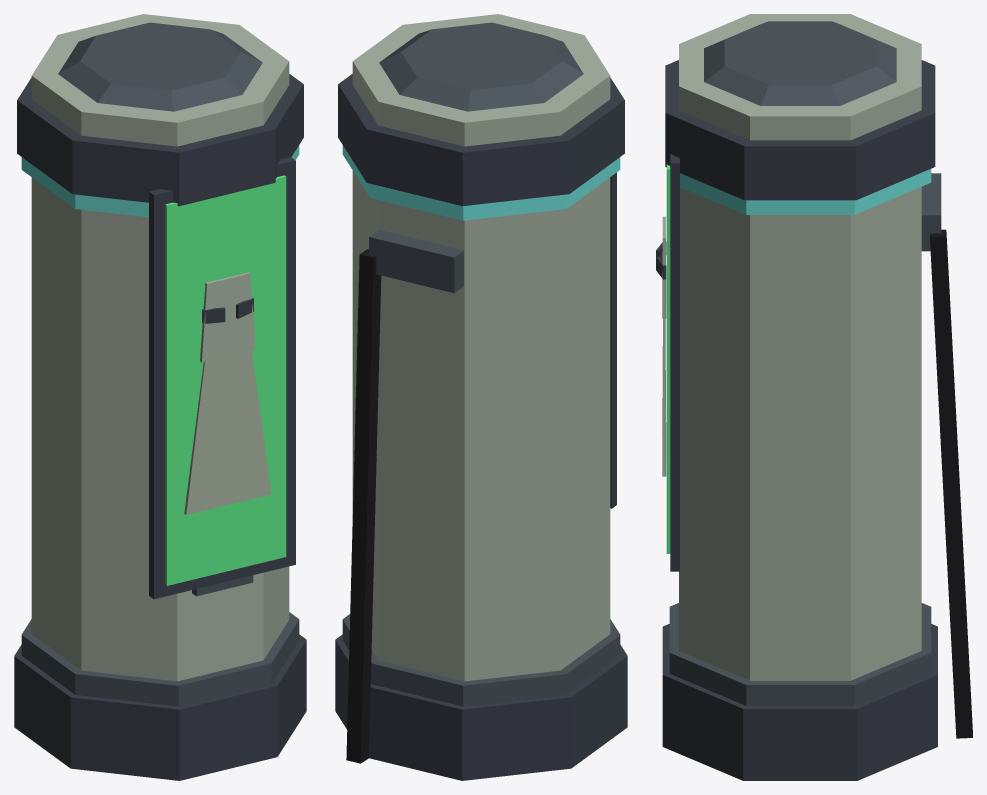
The model's file is GV_ShipPod_01.glb.
3 views of the same model, side by side, from view 1: azimuth 30°, elevation 25°; view 2: azimuth 150°, elevation 25°; view 3: azimuth 270°, elevation 25° (orthographic).
Parts seen in each view (by area): view 1: GV_ShipPod_01; view 2: GV_ShipPod_01; view 3: GV_ShipPod_01.
Boxes of the visible parts, box(x1,y1,x2,y2) form: GV_ShipPod_01: box(14, 14, 306, 780); GV_ShipPod_01: box(335, 14, 627, 780); GV_ShipPod_01: box(656, 14, 972, 780).
Size of the model in its own units: 0.8315 by 2.23 by 0.9561.
Materials: 1 (1 with a texture image).
